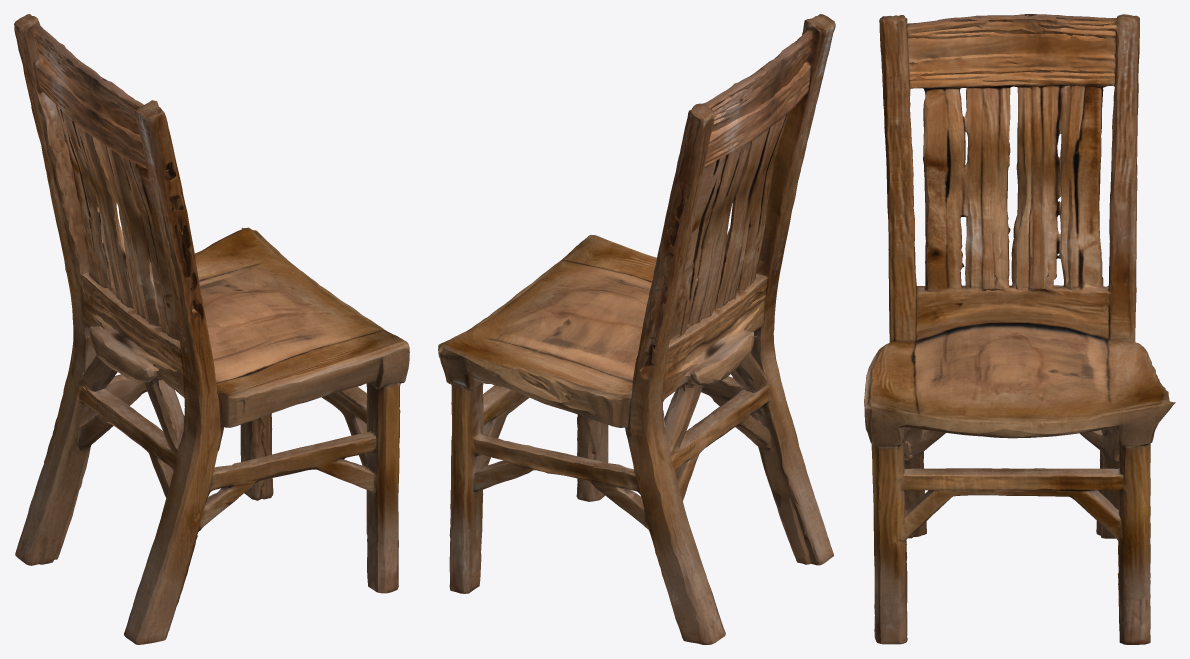
3 renders of one model, left to right at view 1: azimuth 30°, elevation 25°; view 2: azimuth 150°, elevation 25°; view 3: azimuth 270°, elevation 25°, orthographic. The views are drawn at different scales.
Visible parts, largest first — view 1: world; view 2: world; view 3: world.
Part boxes in pixels (<box>): world: <box>14,14,409,644</box>; world: <box>438,14,835,644</box>; world: <box>864,14,1175,644</box>.
Bounding box in the file's own units: 0.5273 × 1 × 0.5473.
1 material, 1 textured.
